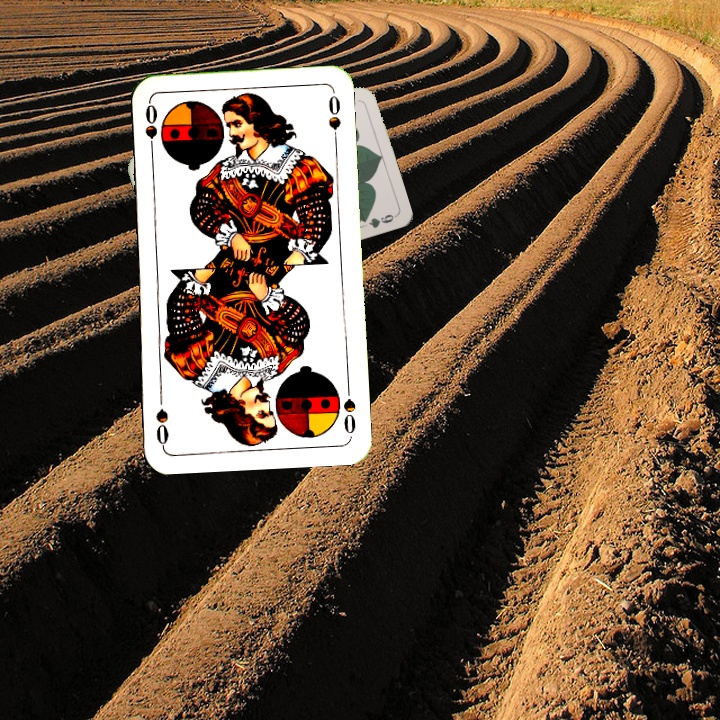SO: (339, 379, 359, 439), (141, 99, 160, 158)
